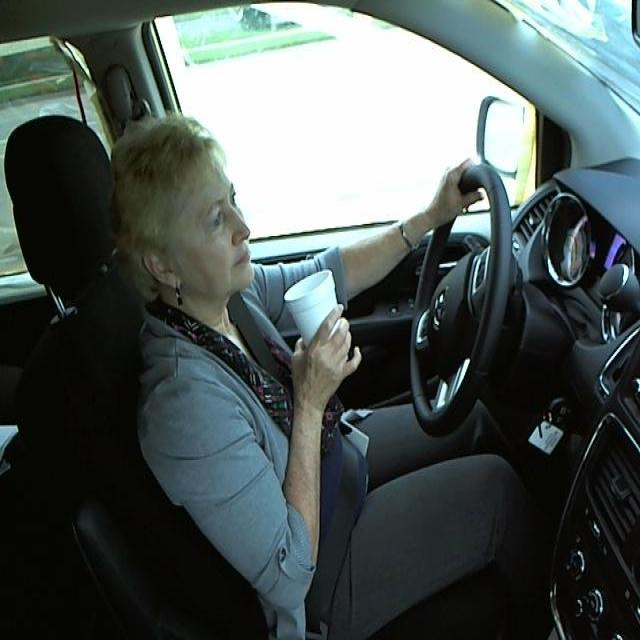Seatbelt: (280, 270, 344, 370)
